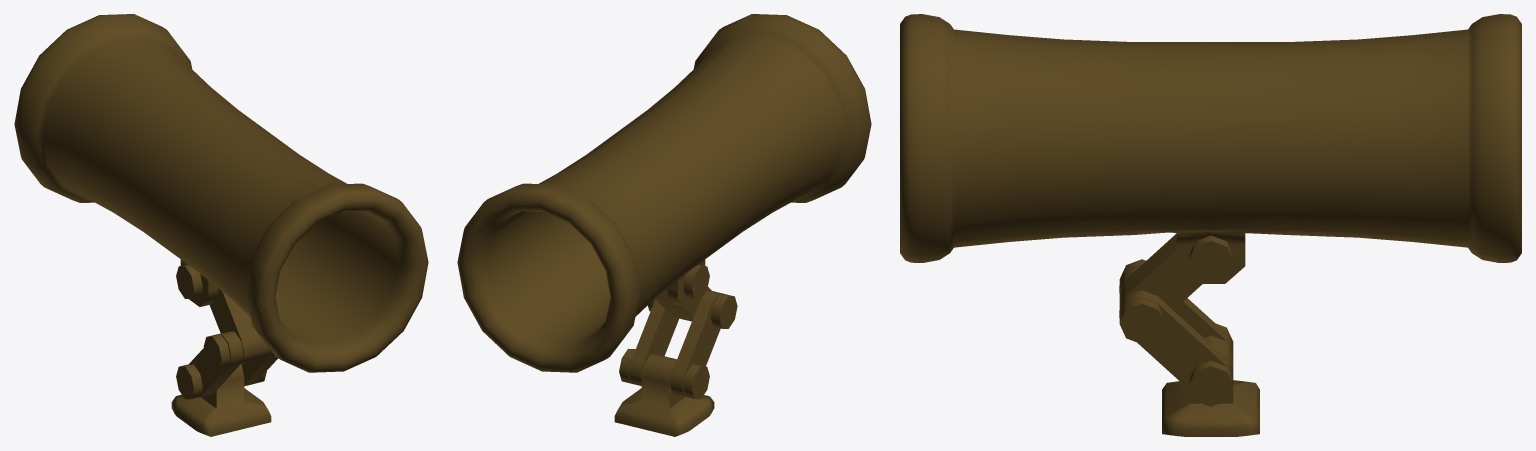
Rendered from roketatar.fbx.
3 renders of one model, left to right at view 1: azimuth 30°, elevation 25°; view 2: azimuth 150°, elevation 25°; view 3: azimuth 270°, elevation 25°, orthographic. The views are drawn at different scales.
Parts seen in each view (by area): view 1: cannon, stand, arm_b, arm_t, bolt_b, bolt_m, bolt_t; view 2: cannon, stand, arm_b, bolt_b, bolt_m, bolt_t, arm_t; view 3: cannon, stand, arm_b, arm_t, bolt_m, bolt_b, bolt_t.
Boxes of the visible parts, x1,y1,x2,y2 form: cannon: [14, 14, 428, 372]; stand: [171, 364, 271, 436]; arm_b: [188, 331, 277, 396]; arm_t: [209, 288, 270, 363]; bolt_b: [176, 364, 266, 399]; bolt_m: [203, 334, 230, 369]; bolt_t: [176, 264, 202, 298]; cannon: [457, 14, 871, 372]; stand: [614, 354, 714, 436]; arm_b: [628, 291, 724, 396]; bolt_b: [619, 348, 709, 399]; bolt_m: [648, 294, 737, 328]; bolt_t: [683, 264, 709, 298]; arm_t: [655, 287, 711, 321]; cannon: [900, 14, 1521, 283]; stand: [1162, 335, 1259, 436]; arm_b: [1119, 265, 1233, 390]; arm_t: [1119, 233, 1202, 310]; bolt_m: [1119, 259, 1164, 344]; bolt_b: [1188, 323, 1233, 406]; bolt_t: [1188, 235, 1233, 281].
Size of the model in its own units: 60.2 by 104 by 150.
